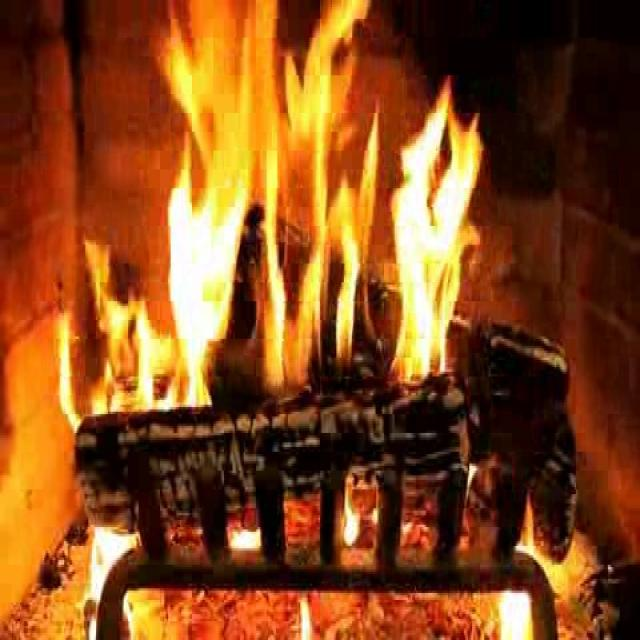fire: (140, 6, 485, 430)
